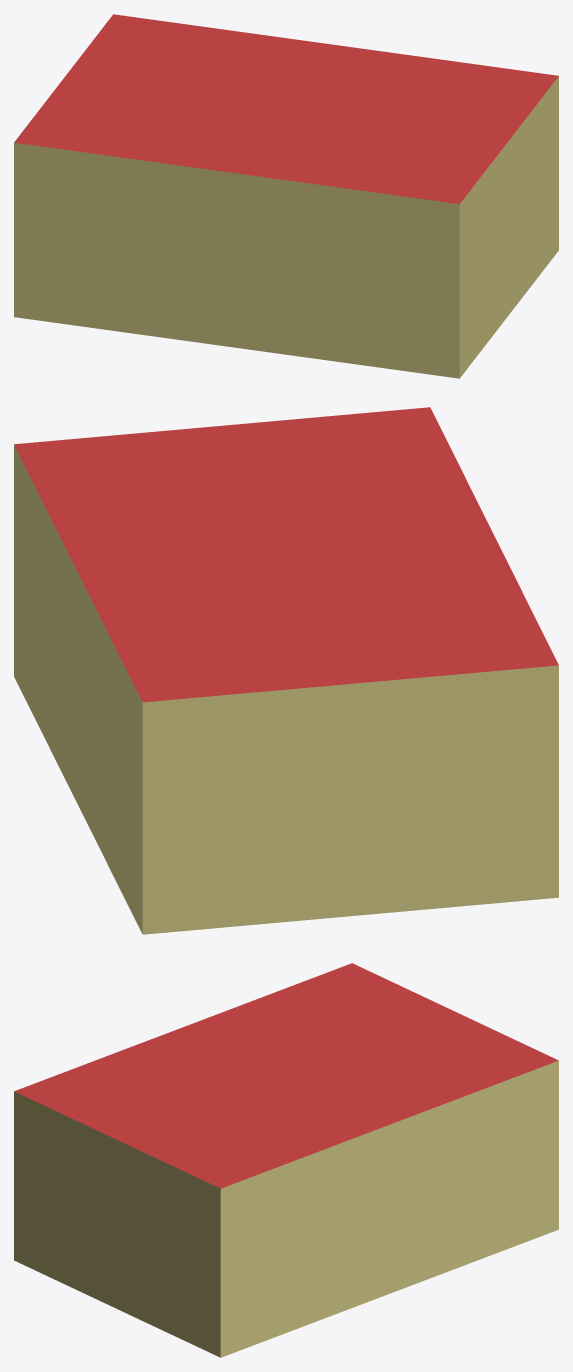
3 renders of one model, top to bottom at view 1: azimuth 30°, elevation 25°; view 2: azimuth 150°, elevation 25°; view 3: azimuth 270°, elevation 25°, orthographic. The views are drawn at different scales.
Size of the model in its own units: 25.51 by 26.04 by 8.92.
